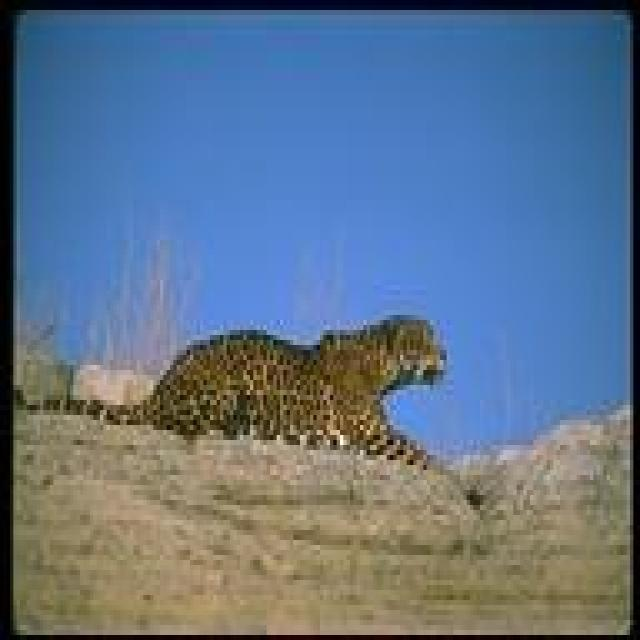Leopard: (143, 310, 448, 470)
